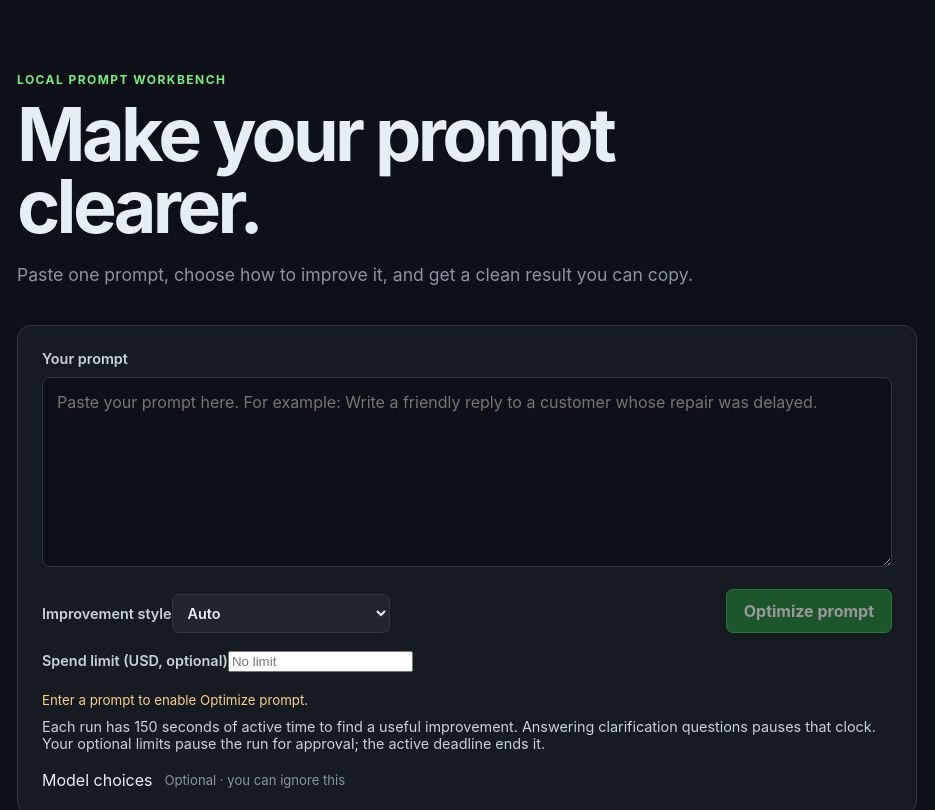
brings a failed run's error card into view
The width and height of the screenshot is (935, 810).
In the text box labelled "Your prompt": (467, 472) [42,377,892,567], type "Write a note to my neighbour."
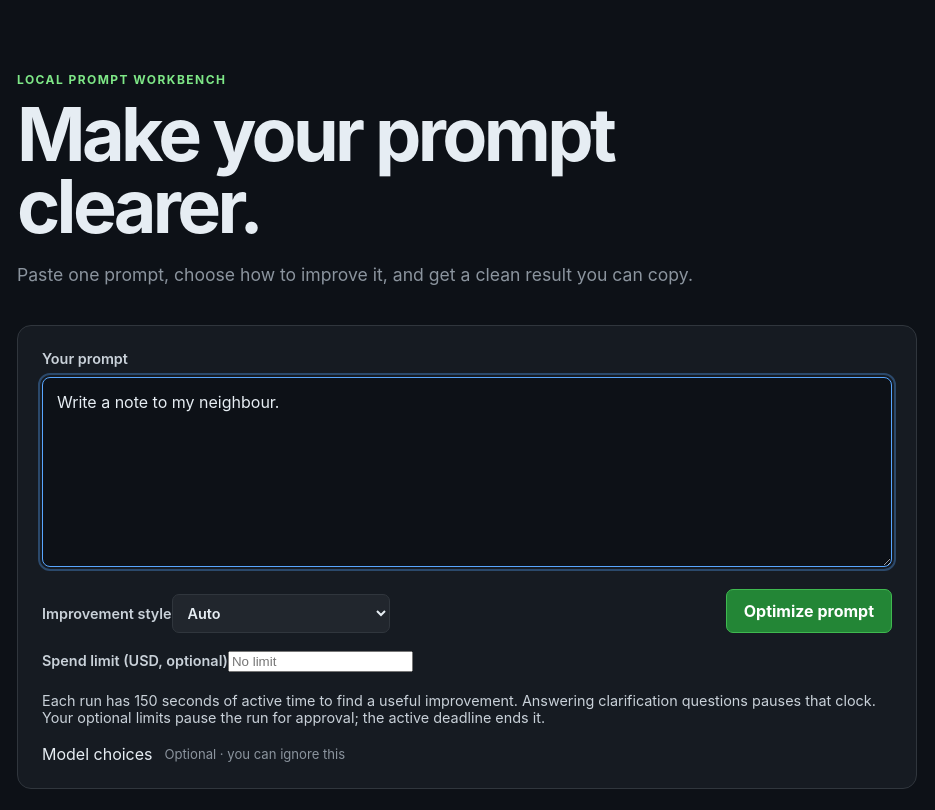
Click the button "Optimize prompt": (809, 611) [726,589,892,633]
(page scrolled)
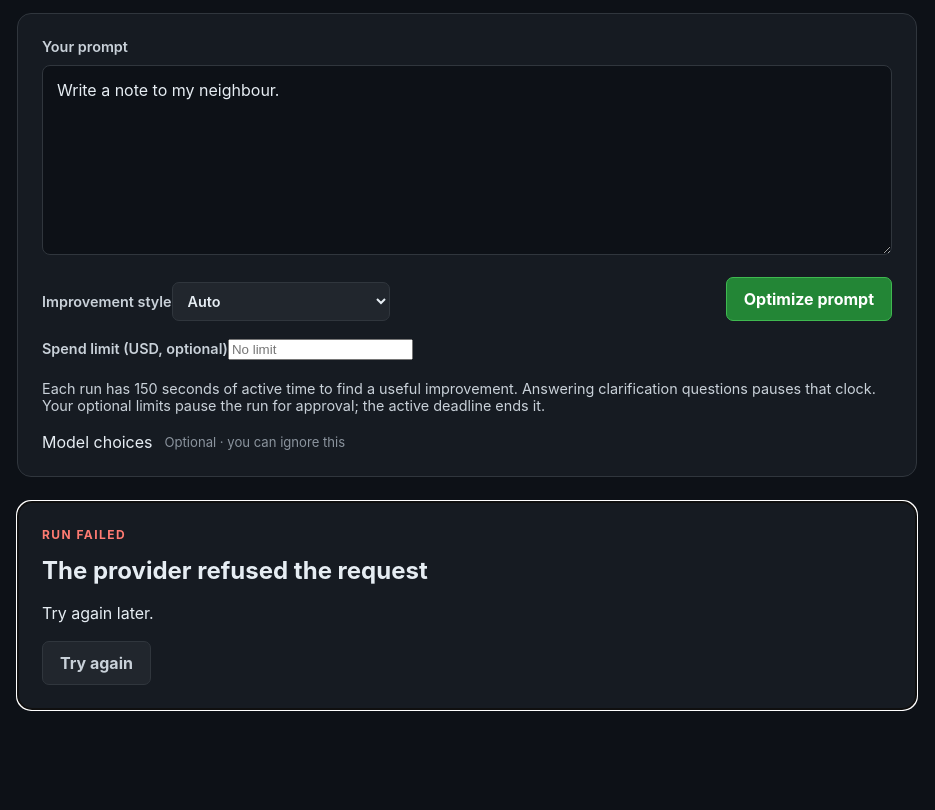
Check: the heading "The provider refused the request" is shown, box [42,556,428,585]
